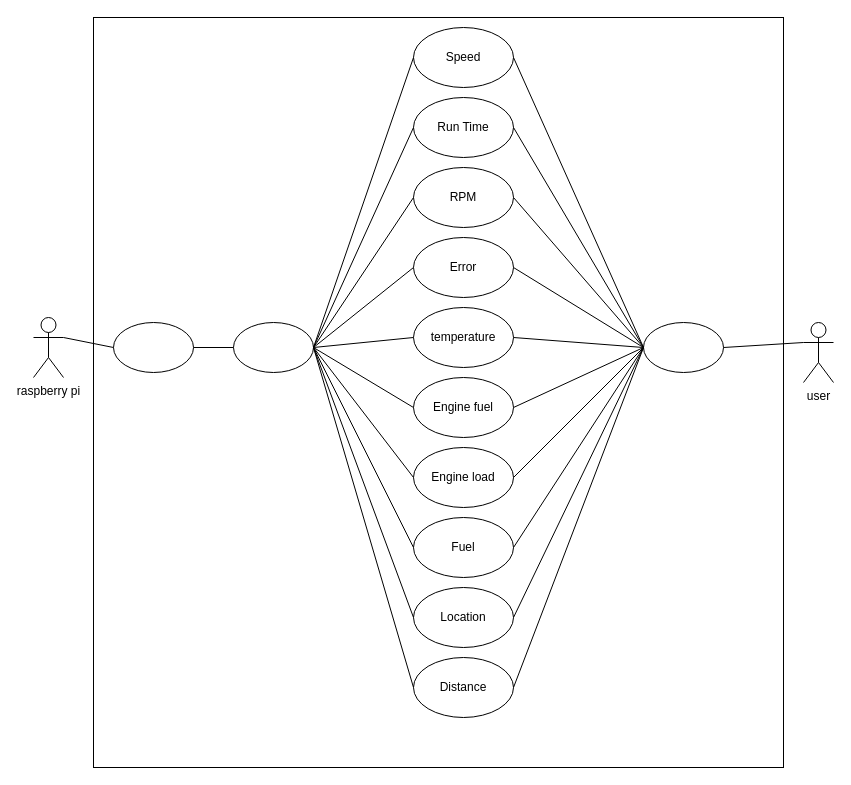
This 851x785 diagram has some shape labels left out. Each missing label, with the centre of its shape:
"OBD" belongs at point (273, 347).
"Server" belongs at point (153, 347).
"UI" belongs at point (683, 347).
